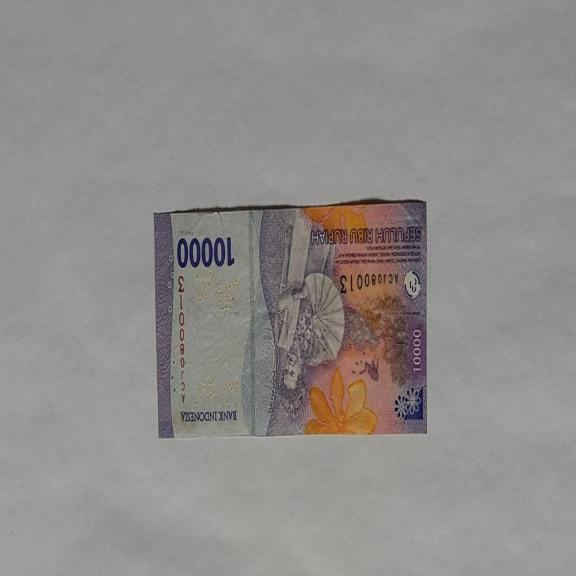Kertas: (153, 198, 428, 438), (176, 234, 235, 270)
